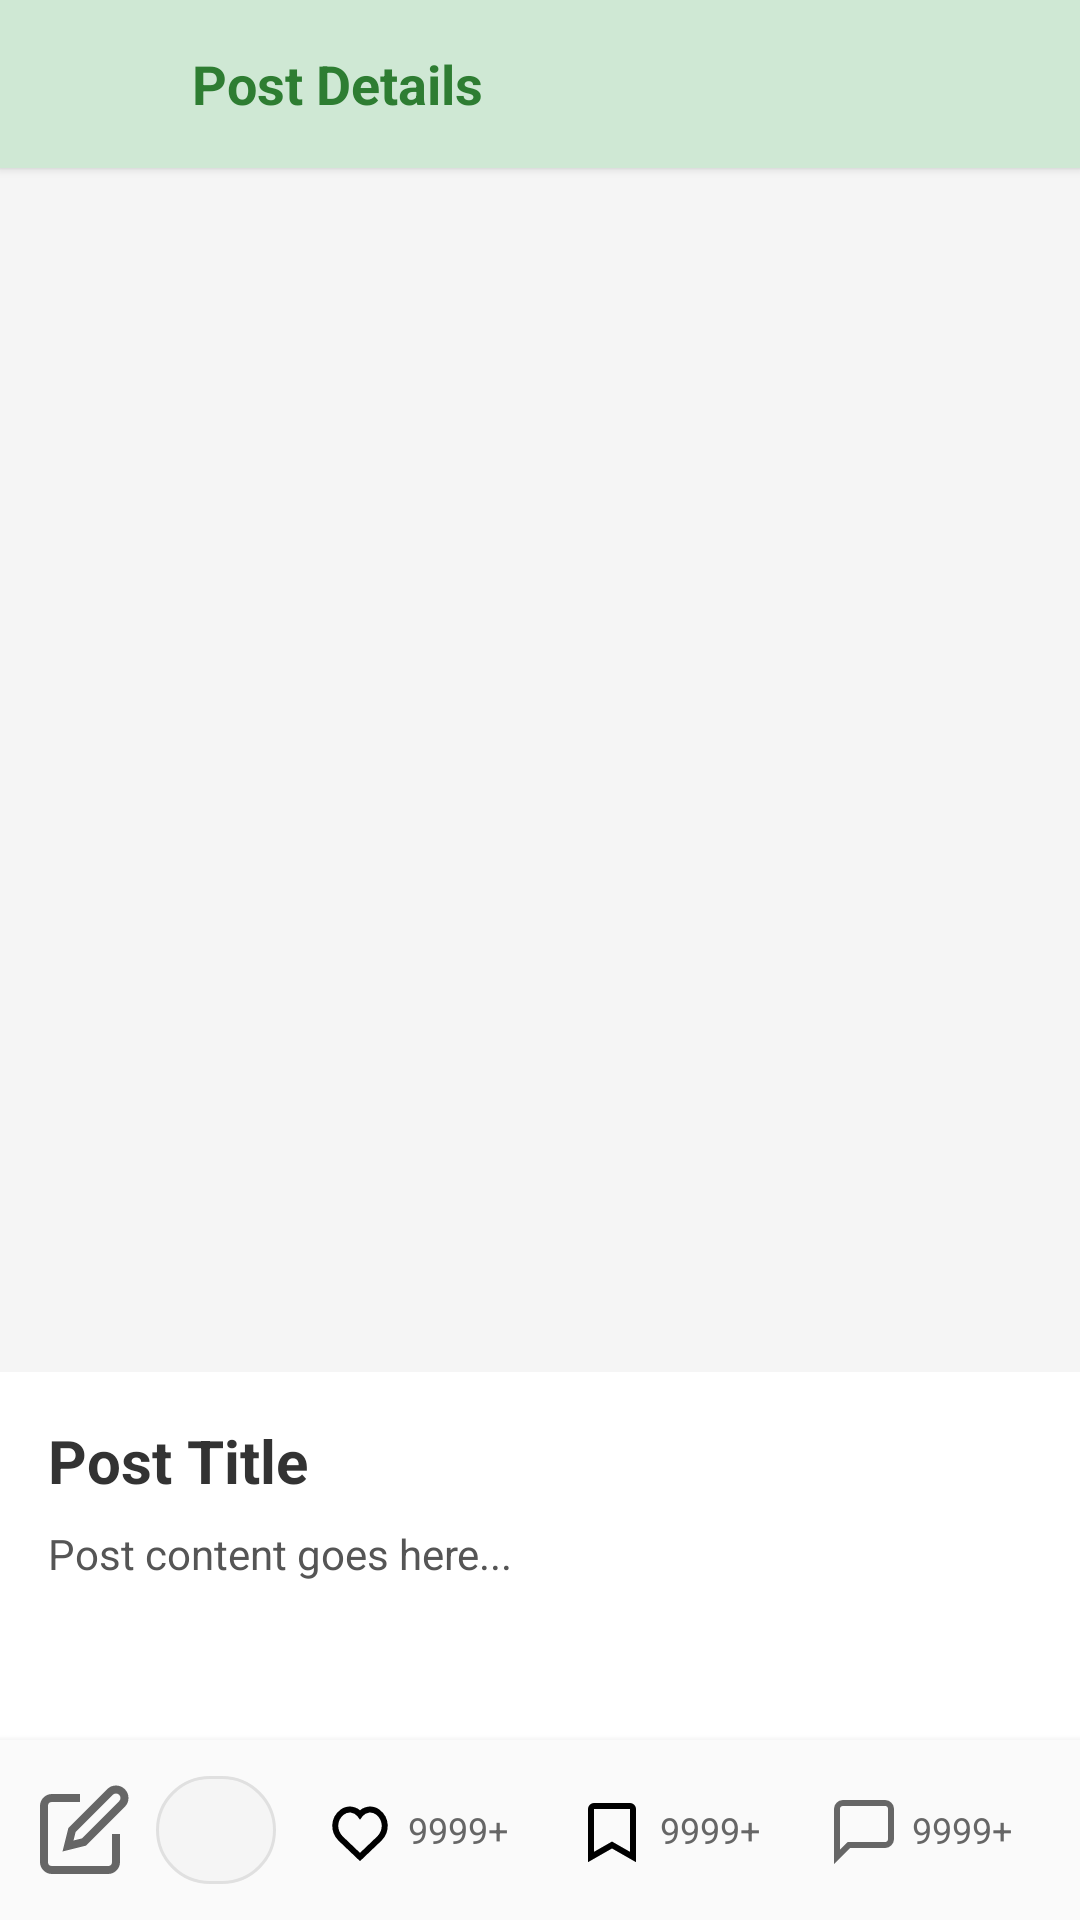

Where icons sit on this 1080x1920 app screen, as (x1=x1, y1=y1, x2=x2, y2=y2):
Bookmark: (x1=588, y1=1803, x2=636, y2=1862)
comment: (x1=834, y1=1800, x2=894, y2=1864)
Like: (x1=332, y1=1806, x2=388, y2=1861)
Write comment: (x1=40, y1=1785, x2=129, y2=1874)
